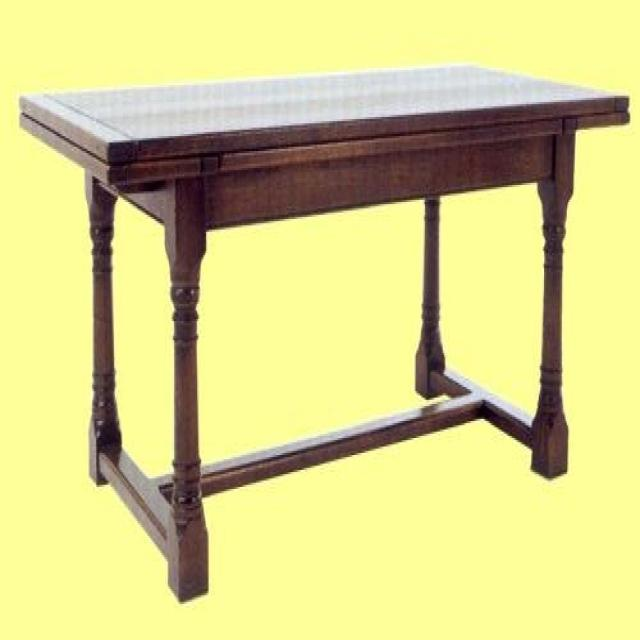table: (18, 63, 629, 604)
